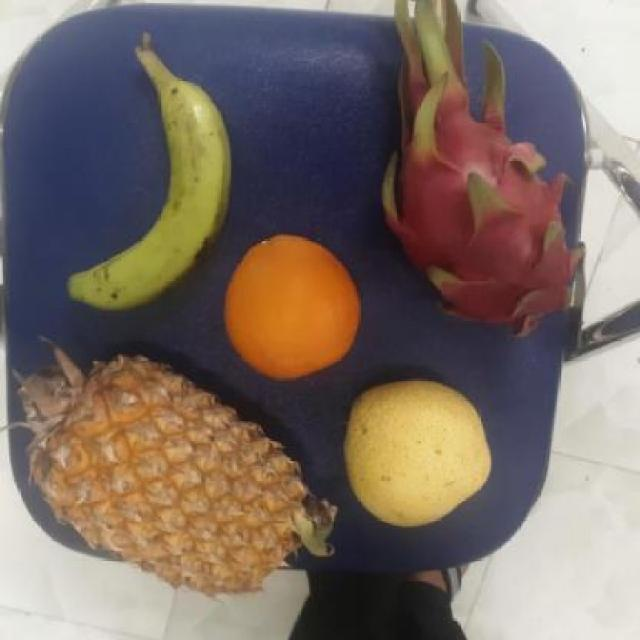banana: (67, 58, 228, 314)
dragon fruit: (369, 43, 583, 340)
oren: (221, 233, 364, 376)
pear: (333, 379, 498, 530)
pineapple: (5, 355, 319, 599)
